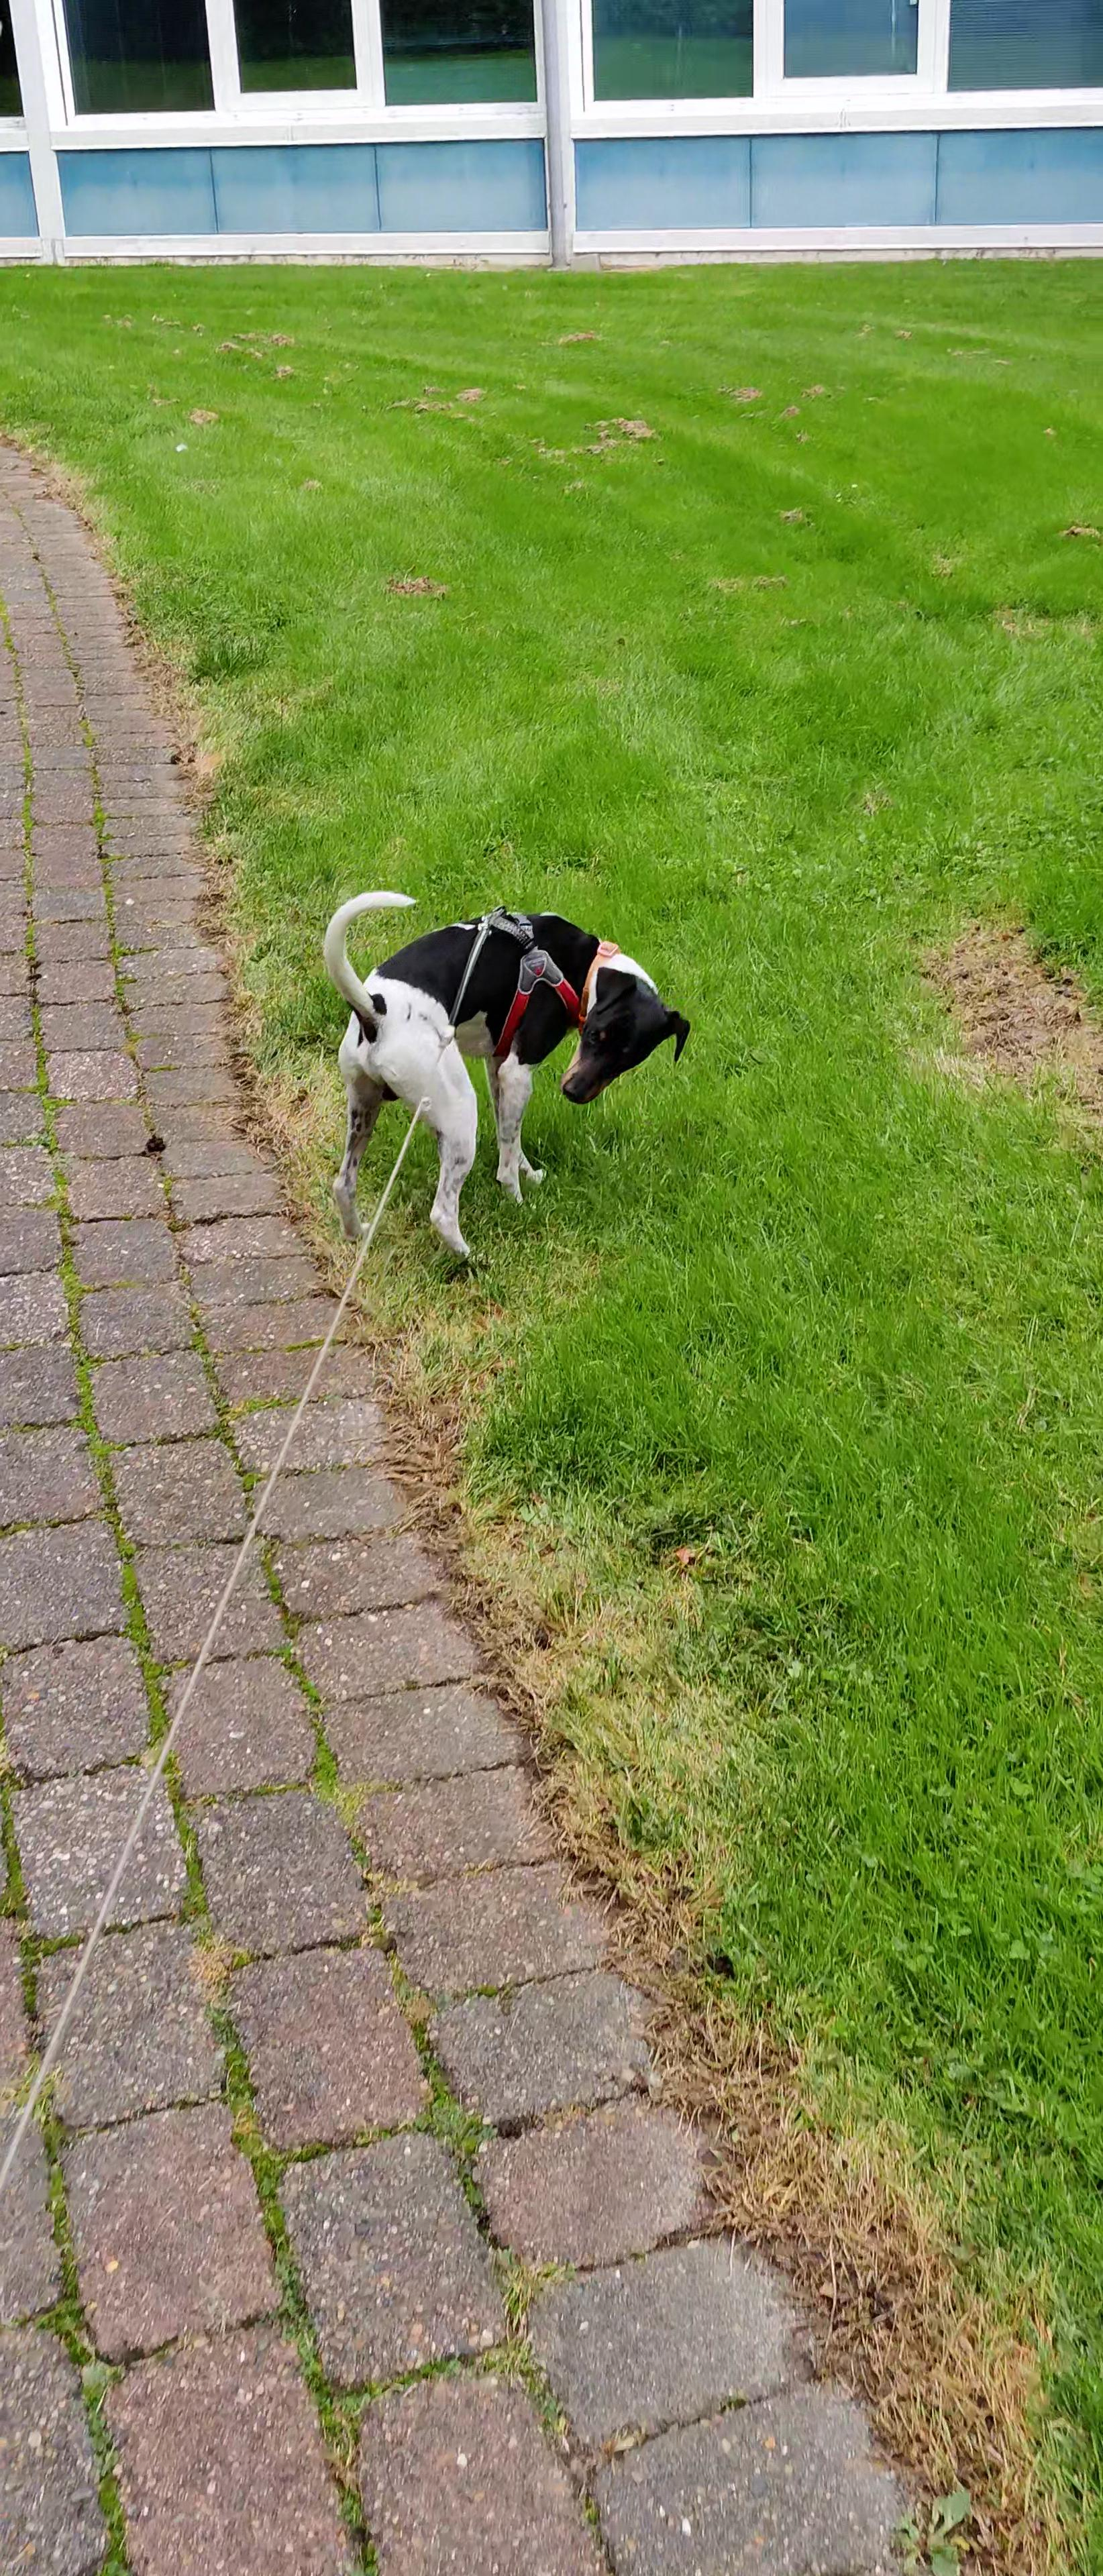Dog: (321, 885, 694, 1252)
